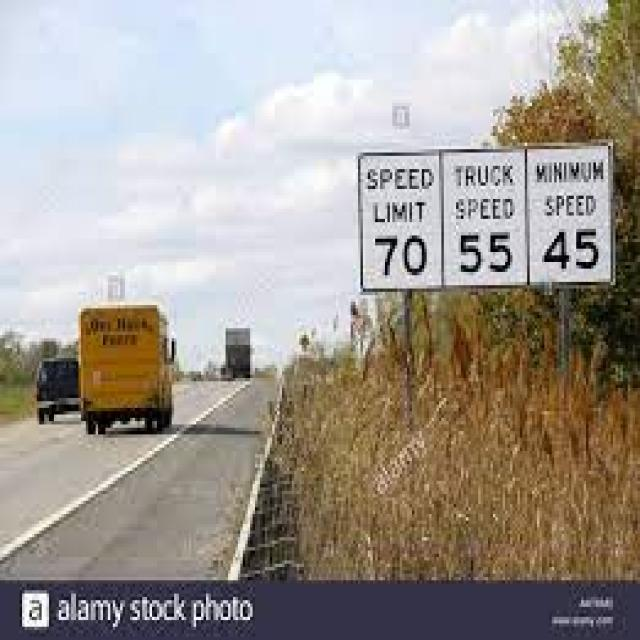speedLimit70: (359, 146, 440, 288)
